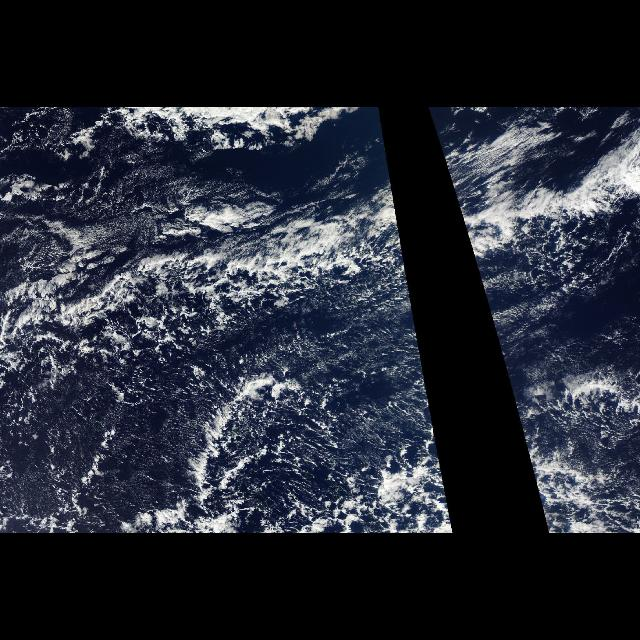Fish: (1, 149, 428, 523), (440, 149, 614, 397)
Gravel: (24, 296, 453, 528), (502, 364, 636, 528)
